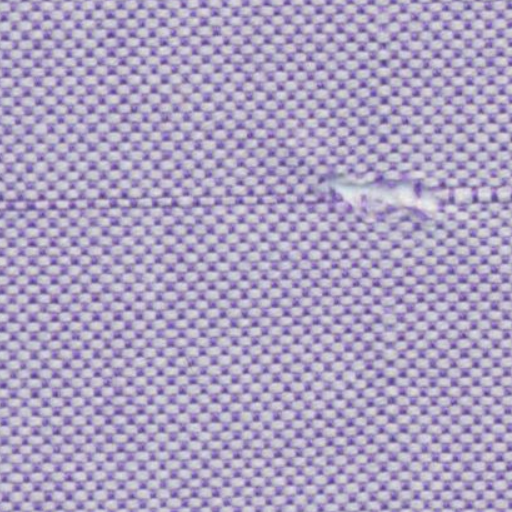PoDong: (296, 150, 460, 235)
